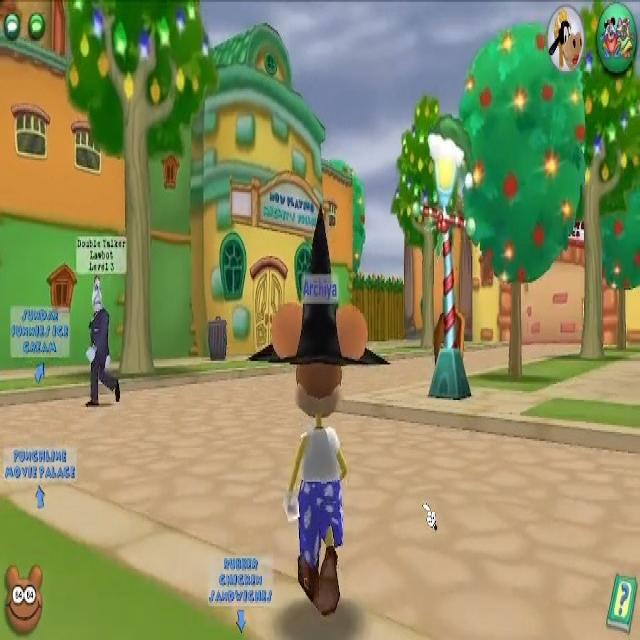doubletalker: (74, 235, 128, 408)
